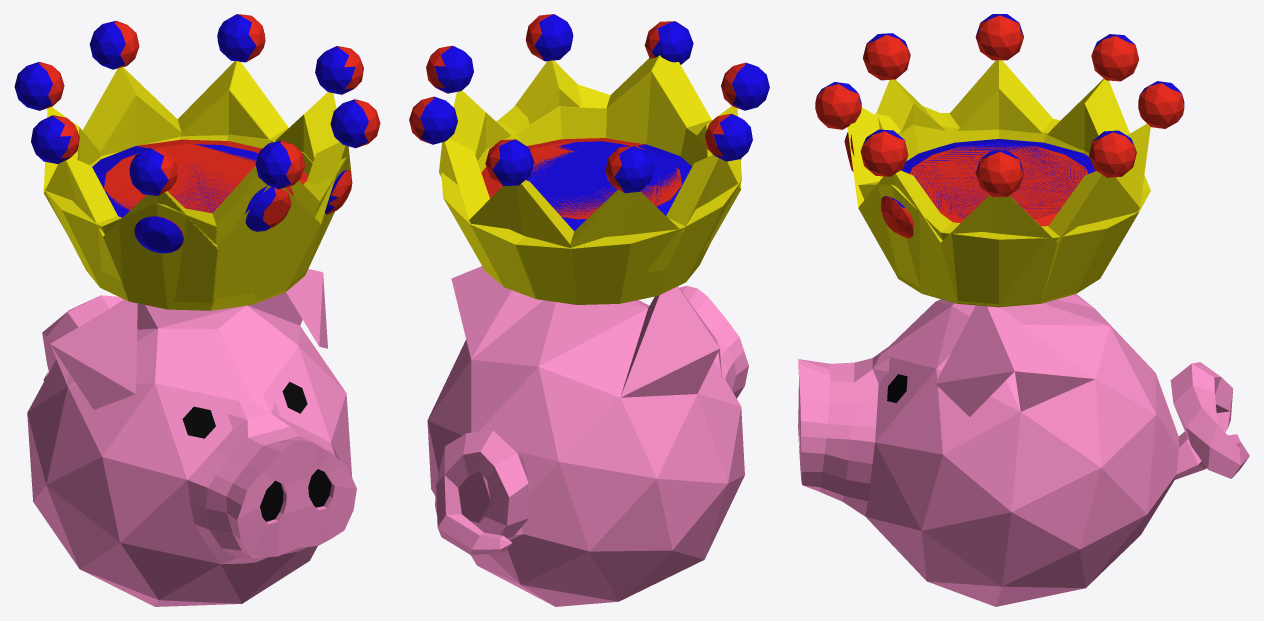
The model's file is Pig.glb.
3 renders of one model, left to right at view 1: azimuth 30°, elevation 25°; view 2: azimuth 150°, elevation 25°; view 3: azimuth 270°, elevation 25°, orthographic.
Parts seen in each view (by area): view 1: Pig, Blue_Crown, Red_Crown, Blue_Tiara, Red_Tiara; view 2: Pig, Blue_Crown, Blue_Tiara, Red_Crown, Red_Tiara; view 3: Pig, Red_Crown, Red_Tiara, Blue_Crown, Blue_Tiara.
Boxes of the visible parts, left/top/right/bottom form: Pig: left=27, top=269, right=356, bottom=606; Blue_Crown: left=14, top=14, right=368, bottom=306; Red_Crown: left=38, top=14, right=380, bottom=306; Blue_Tiara: left=43, top=128, right=346, bottom=310; Red_Tiara: left=44, top=128, right=352, bottom=309; Pig: left=427, top=266, right=748, bottom=606; Blue_Crown: left=420, top=14, right=769, bottom=273; Blue_Tiara: left=442, top=55, right=741, bottom=304; Red_Crown: left=409, top=14, right=746, bottom=247; Red_Tiara: left=441, top=55, right=741, bottom=298; Pig: left=798, top=294, right=1249, bottom=606; Red_Crown: left=815, top=15, right=1184, bottom=306; Red_Tiara: left=844, top=106, right=1150, bottom=307; Blue_Crown: left=815, top=14, right=1184, bottom=242; Blue_Tiara: left=845, top=106, right=1150, bottom=239.
Size of the model in its own units: 10.26 by 15.42 by 12.54.
